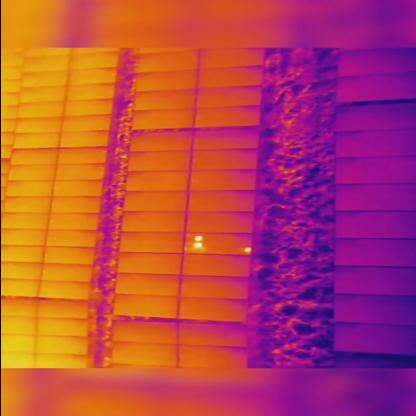Hotspot: (185, 231, 255, 258)
Normal: (179, 273, 252, 302), (114, 270, 184, 300), (176, 343, 250, 370), (193, 126, 264, 153), (186, 189, 259, 215), (113, 292, 180, 320), (188, 168, 259, 193), (116, 230, 186, 255), (124, 169, 191, 194), (194, 86, 264, 109), (131, 89, 195, 113), (128, 132, 195, 153), (34, 315, 90, 339), (46, 210, 103, 233), (43, 244, 97, 267), (12, 130, 62, 152), (52, 179, 105, 199), (58, 146, 110, 166), (20, 69, 70, 89), (63, 99, 115, 118)
Shadow: (332, 320, 416, 358), (331, 263, 416, 298), (330, 294, 416, 326), (334, 101, 416, 134), (332, 209, 416, 241), (333, 155, 416, 187), (334, 74, 416, 106)
